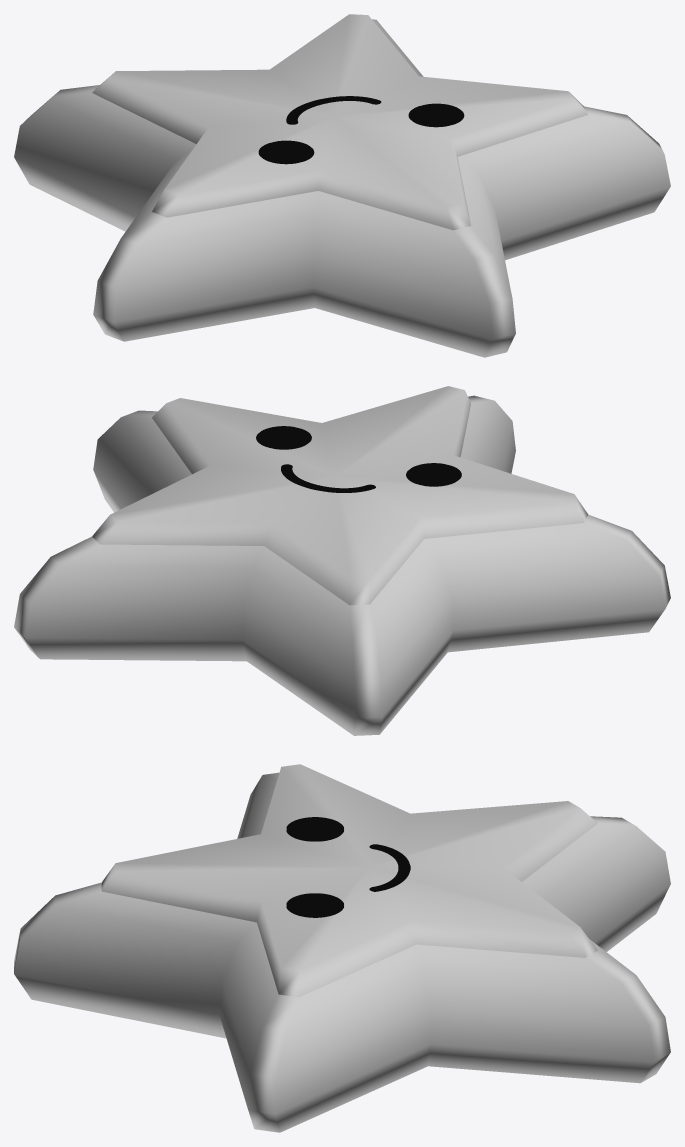
File: cookie_star_smile.fbx
3 renders of one model, top to bottom at view 1: azimuth 30°, elevation 25°; view 2: azimuth 150°, elevation 25°; view 3: azimuth 270°, elevation 25°, orthographic. The views are drawn at different scales.
Parts seen in each view (by area): view 1: cookie_star_smail; view 2: cookie_star_smail; view 3: cookie_star_smail.
Part boxes in pixels (x1,y1,x2,y2): cookie_star_smail: (14,14,670,357); cookie_star_smail: (14,386,670,735); cookie_star_smail: (14,764,670,1132).
Bounding box in the file's own units: 50.74 × 10.32 × 48.26.
Materials: 2 (1 with a texture image).
